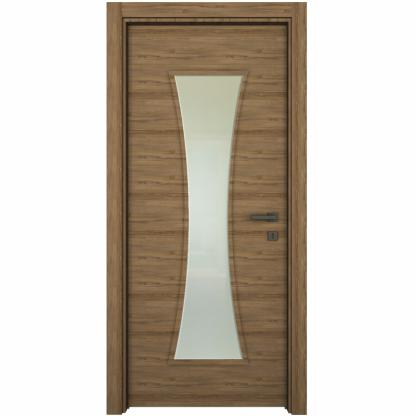door: (126, 23, 285, 408)
